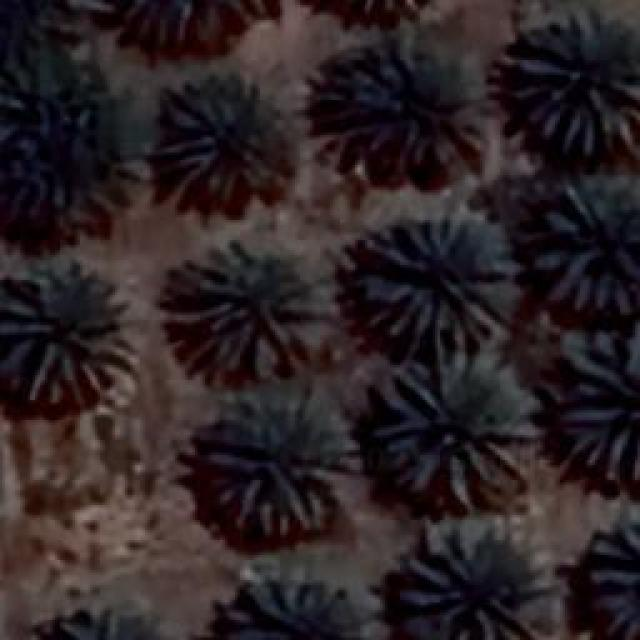PalmTree: (370, 350, 540, 505), (205, 388, 353, 540), (360, 212, 510, 360), (320, 38, 485, 170), (168, 240, 320, 382), (504, 15, 638, 160), (0, 259, 132, 402), (5, 84, 130, 228), (530, 175, 638, 318), (158, 68, 272, 202), (392, 528, 518, 638), (560, 330, 638, 475), (215, 568, 360, 638), (590, 512, 638, 638), (57, 608, 165, 638), (44, 33, 120, 66), (120, 34, 191, 68), (313, 0, 442, 15), (324, 0, 442, 12)
